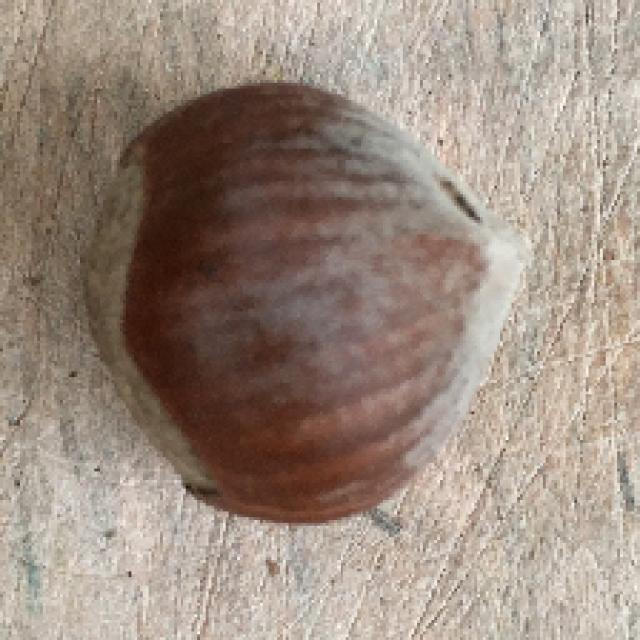damagedHazelnut: (64, 84, 533, 515)
